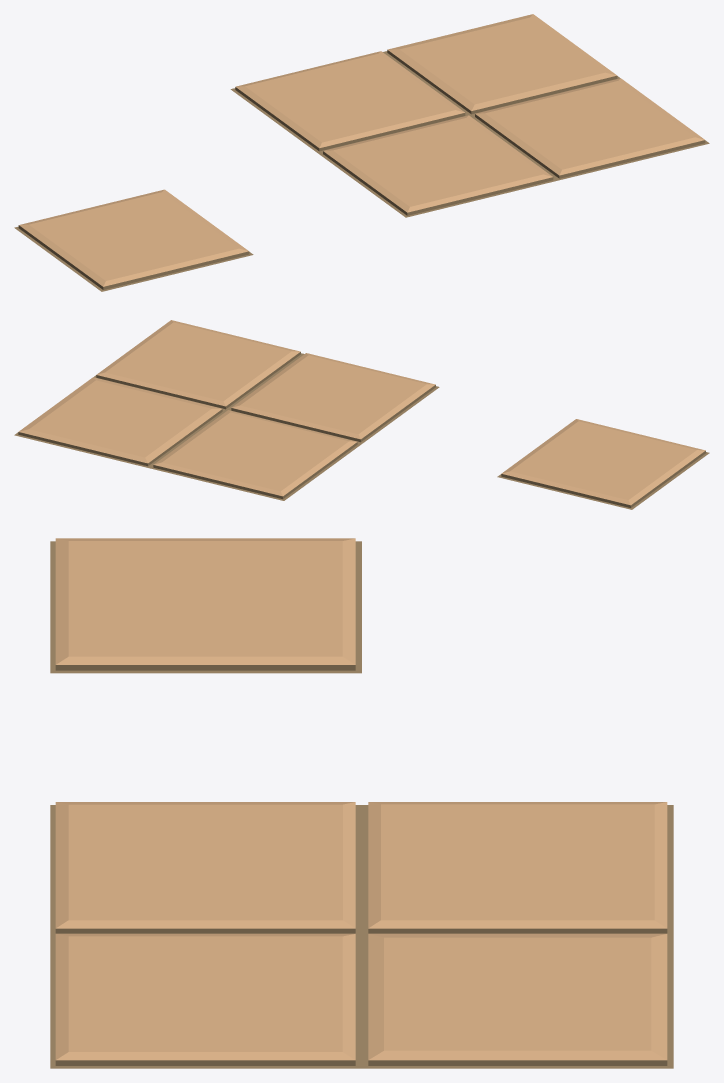
Rendered from AllOtherFloors.fbx.
The picture shows the model from 3 angles, top to bottom: view 1: azimuth 30°, elevation 25°; view 2: azimuth 150°, elevation 25°; view 3: azimuth 270°, elevation 25°; orthographic projection. The views are drawn at different scales.
Parts seen in each view (by area): view 1: Plane, Plane.001; view 2: Plane, Plane.001; view 3: Plane, Plane.001.
Part boxes in pixels (x1,y1,x2,y2): Plane: [230, 14, 709, 217]; Plane.001: [14, 189, 253, 291]; Plane: [14, 320, 439, 500]; Plane.001: [497, 419, 709, 509]; Plane: [50, 802, 673, 1068]; Plane.001: [50, 538, 361, 673].
Size of the model in its own units: 400 by 3 by 200.
